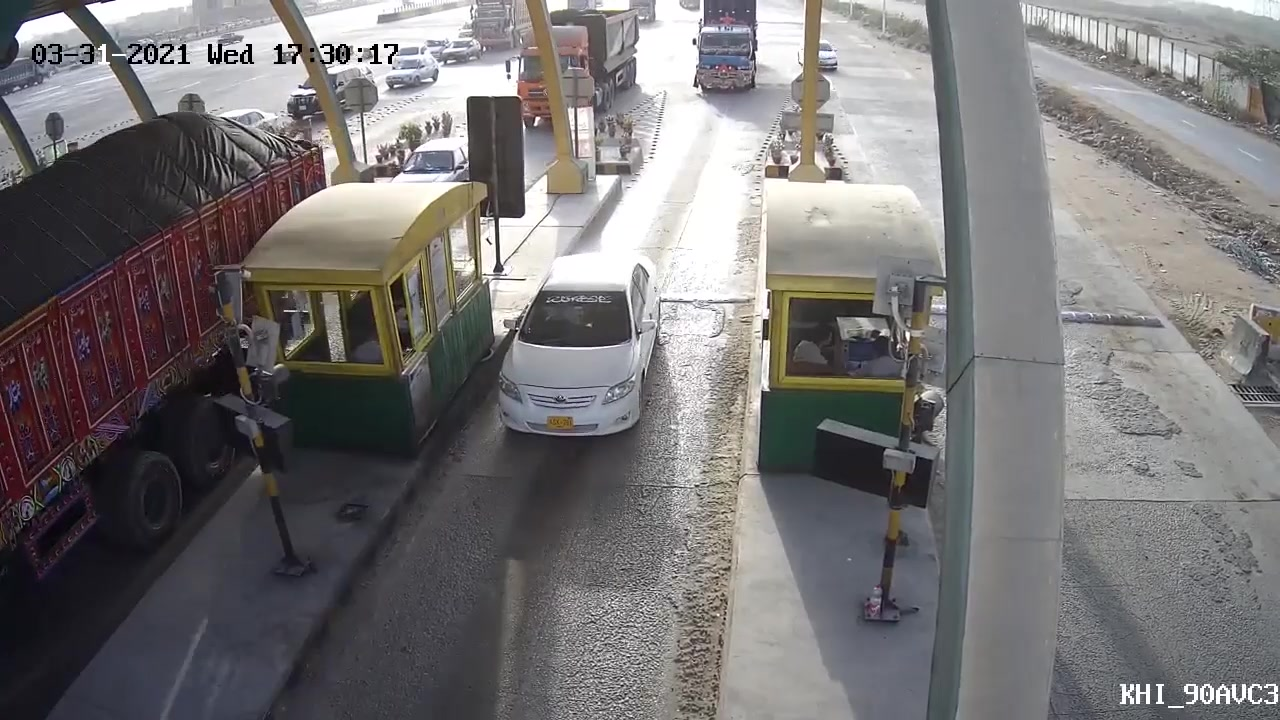F1: (487, 239, 668, 438)
